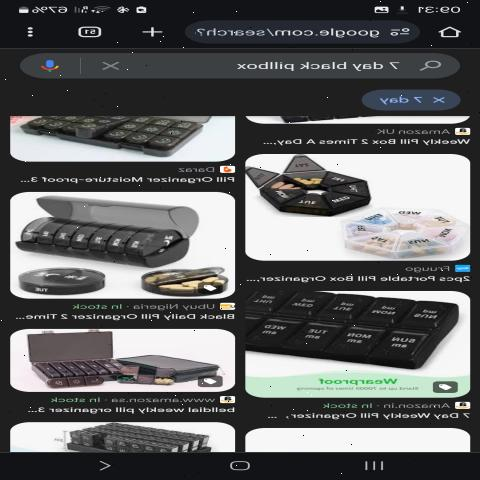PillBox: (244, 292, 466, 371), (235, 158, 378, 214)
